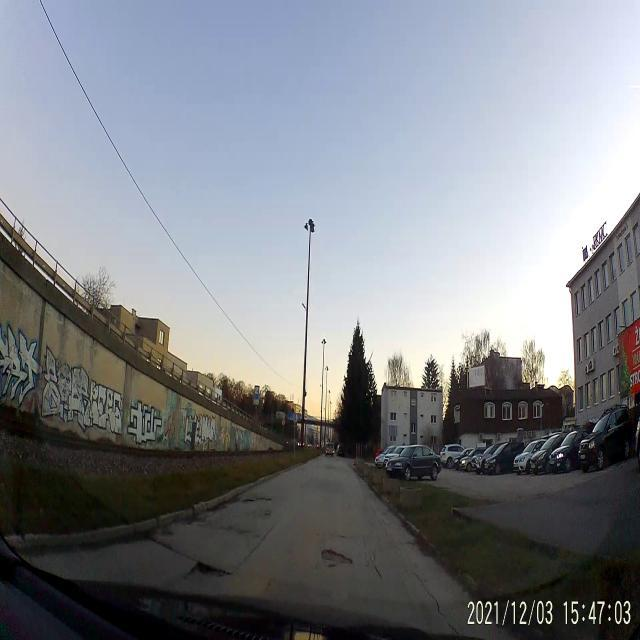Pothole: (180, 556, 227, 582), (317, 545, 356, 568), (242, 496, 256, 504), (160, 528, 174, 536), (255, 496, 273, 502)
